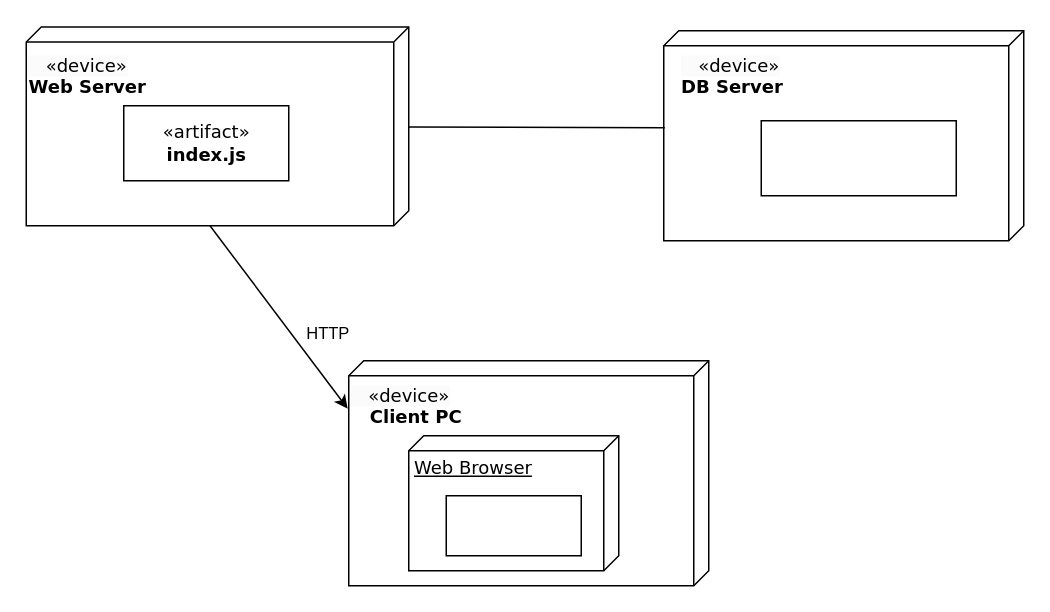
The diagram is 1050 pixels wide and 612 high, and some of its shapes have lost their labels. The shapes that lost their labels are listed below. From the top down, each one's centre as x and y in pixels, then its label:
At (858,157): "«interface» MySQL database".
At (513,525): "«artifact» HTML".
